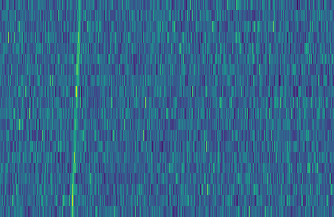signal: (65, 0, 83, 217)
